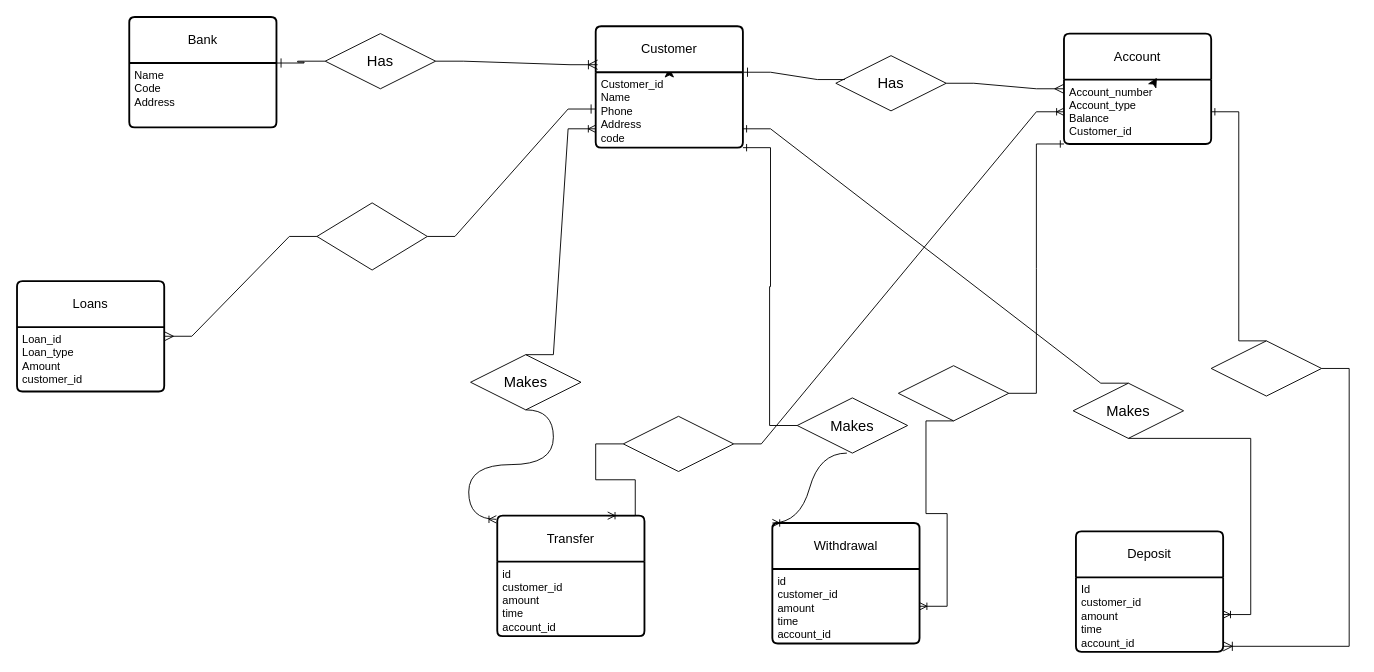
The diagram is 1374 pixels wide and 672 high, and some of its shapes have lost their labels. The centre of each missing label's shape, as x and y in pixels:
"Debited" belongs at point (953, 393).
"Occurs" belongs at point (678, 443).
"Receives" belongs at point (1266, 368).
"takes" belongs at point (371, 236).
